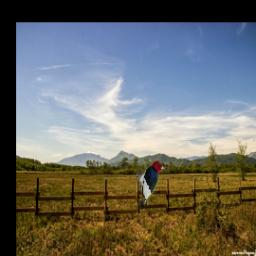Woodpecker: (136, 160, 167, 211)
